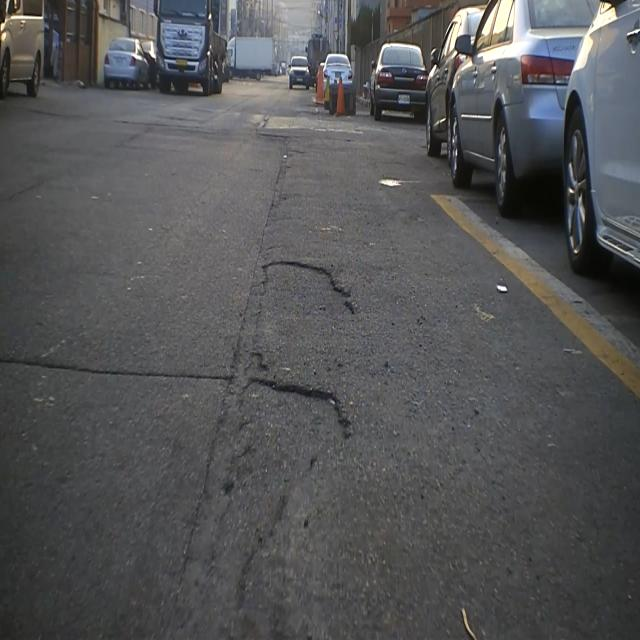Pothole: (218, 368, 352, 606), (255, 253, 360, 337)
